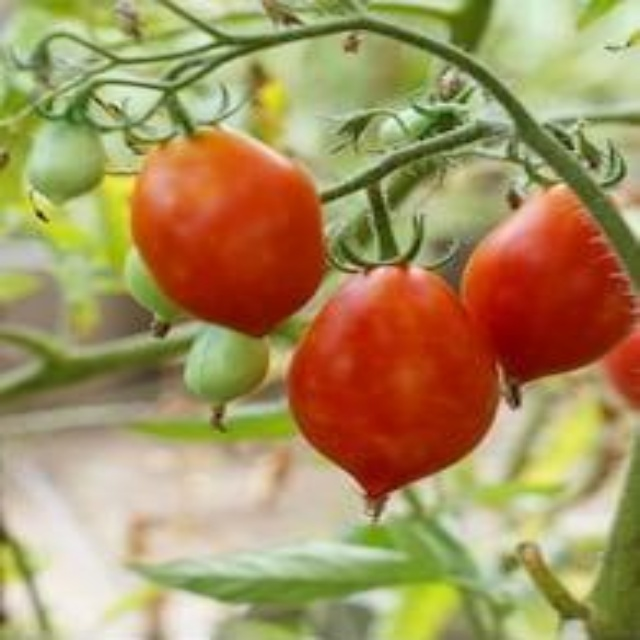tomato: (293, 270, 500, 512), (130, 122, 328, 344), (448, 168, 639, 384)
